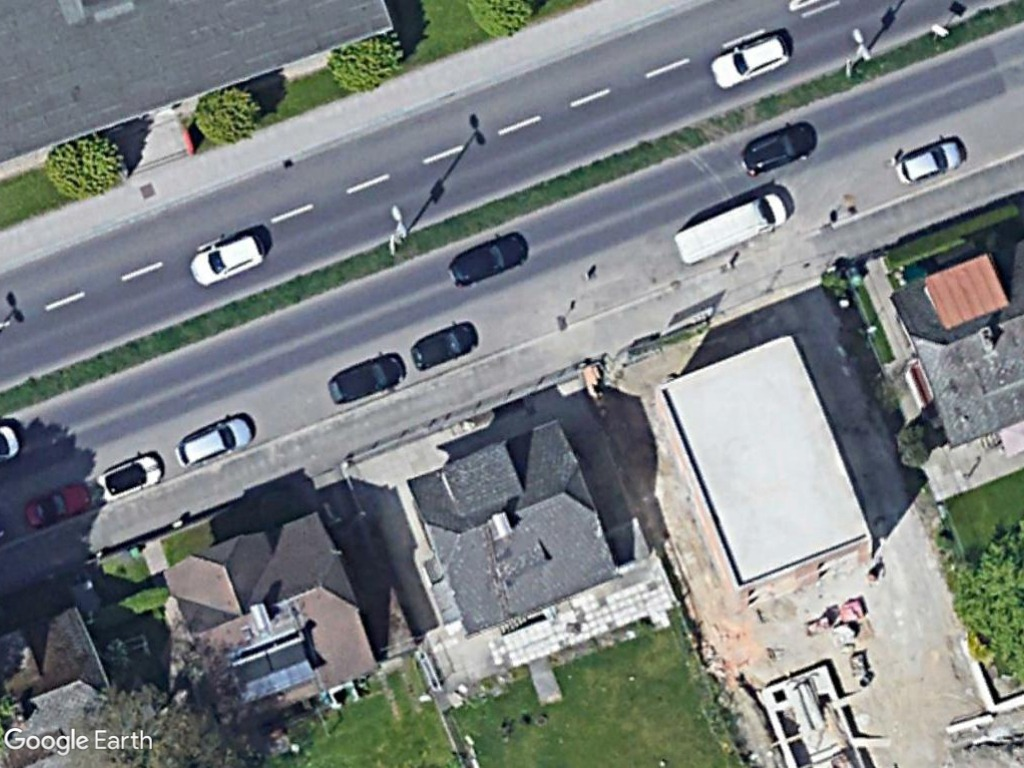car: (707, 30, 795, 91), (443, 228, 528, 291), (184, 229, 271, 288), (326, 349, 407, 408), (173, 412, 255, 470), (736, 121, 819, 178), (405, 316, 479, 371), (96, 449, 164, 504), (890, 138, 966, 187), (20, 479, 93, 529)
van: (670, 187, 792, 266)
